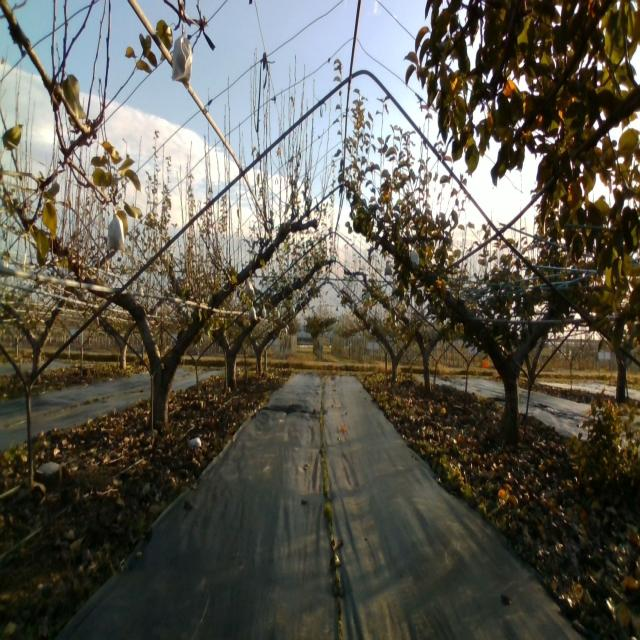pearbags: (171, 24, 193, 86), (104, 205, 126, 252)
